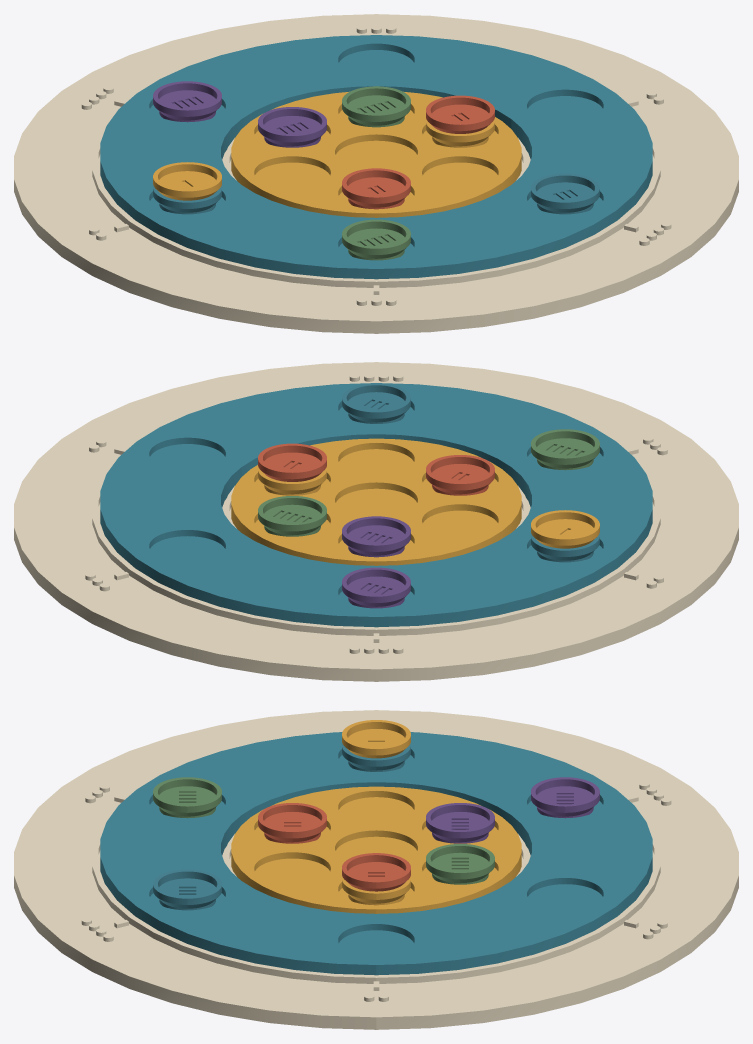
File: crosscurrent.glb
The picture shows the model from 3 angles, top to bottom: view 1: azimuth 30°, elevation 25°; view 2: azimuth 150°, elevation 25°; view 3: azimuth 270°, elevation 25°; orthographic projection.
Parts seen in each view (by area): view 1: shore, outer, inner, boat_5_b, boat_3_b, boat_2_a, boat_4_b, boat_4_a, boat_5_a, boat_1_b, boat_2_b, boat_3_a (+1 smaller); view 2: shore, outer, inner, boat_4_b, boat_4_a, boat_3_b, boat_5_b, boat_2_a, boat_5_a, boat_1_b, boat_2_b, boat_3_a (+1 smaller); view 3: shore, outer, inner, boat_3_b, boat_4_b, boat_5_b, boat_2_a, boat_4_a, boat_5_a, boat_2_b, boat_1_b, boat_3_a (+1 smaller).
Part boxes in pixels (x1=…): shore: x1=14, y1=14, x2=738, y2=333; outer: x1=100, y1=35, x2=652, y2=279; inner: x1=231, y1=91, x2=521, y2=217; boat_5_b: x1=342, y1=219, x2=410, y2=260; boat_3_b: x1=531, y1=173, x2=599, y2=214; boat_2_a: x1=342, y1=168, x2=410, y2=209; boat_4_b: x1=153, y1=81, x2=221, y2=122; boat_4_a: x1=258, y1=107, x2=326, y2=147; boat_5_a: x1=342, y1=86, x2=410, y2=127; boat_1_b: x1=153, y1=162, x2=221, y2=200; boat_2_b: x1=426, y1=95, x2=494, y2=133; boat_3_a: x1=153, y1=186, x2=221, y2=214; shore: x1=14, y1=362, x2=738, y2=681; outer: x1=100, y1=383, x2=652, y2=627; inner: x1=231, y1=438, x2=521, y2=565; boat_4_b: x1=342, y1=567, x2=410, y2=608; boat_4_a: x1=342, y1=516, x2=410, y2=557; boat_3_b: x1=342, y1=383, x2=410, y2=423; boat_5_b: x1=531, y1=429, x2=599, y2=470; boat_2_a: x1=426, y1=455, x2=494, y2=495; boat_5_a: x1=258, y1=496, x2=326, y2=536; boat_1_b: x1=531, y1=510, x2=599, y2=548; boat_2_b: x1=258, y1=443, x2=326, y2=481; boat_3_a: x1=531, y1=534, x2=599, y2=562; shore: x1=14, y1=710, x2=738, y2=1029; outer: x1=100, y1=732, x2=652, y2=975; inner: x1=231, y1=786, x2=521, y2=913; boat_3_b: x1=153, y1=869, x2=221, y2=910; boat_4_b: x1=531, y1=777, x2=599, y2=818; boat_5_b: x1=153, y1=777, x2=221, y2=818; boat_2_a: x1=258, y1=803, x2=326, y2=843; boat_4_a: x1=426, y1=803, x2=494, y2=843; boat_5_a: x1=426, y1=844, x2=494, y2=884; boat_2_b: x1=342, y1=853, x2=410, y2=891; boat_1_b: x1=342, y1=720, x2=410, y2=758; boat_3_a: x1=342, y1=743, x2=410, y2=771.
Size of the model in its own units: 0.21 by 0.0158 by 0.2094.
